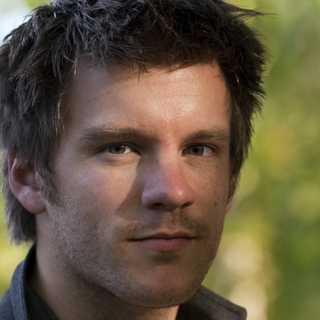eye: (82, 130, 147, 167), (177, 130, 222, 167)
